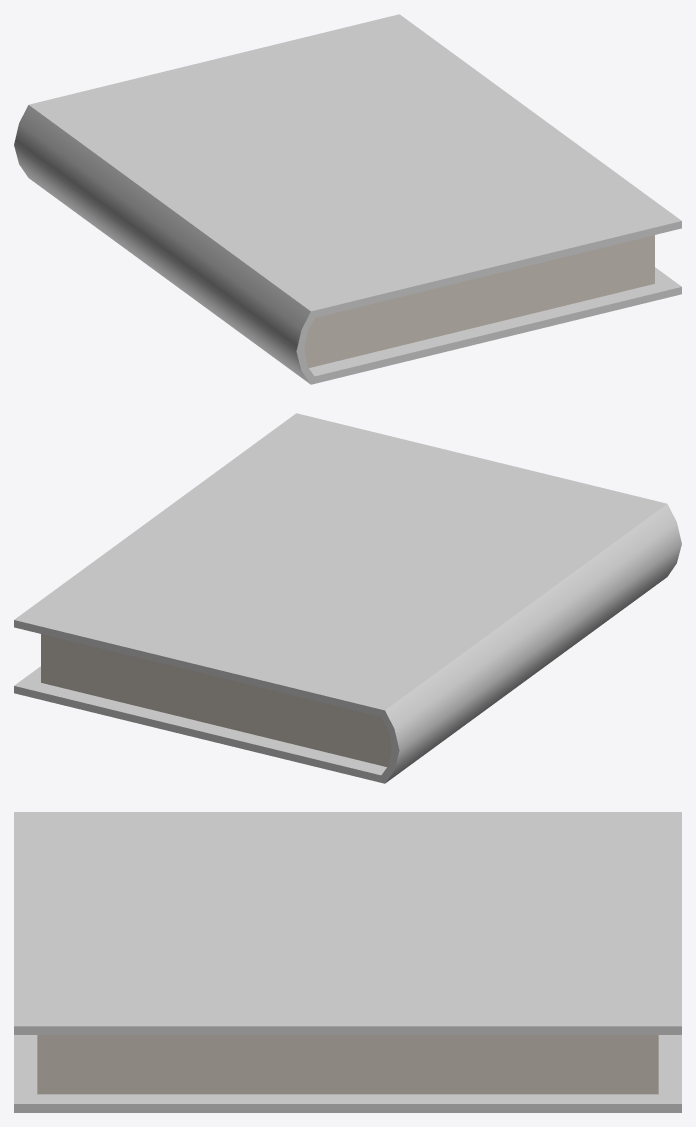
Rendered from book.fbx.
The picture shows the model from 3 angles, top to bottom: view 1: azimuth 30°, elevation 25°; view 2: azimuth 150°, elevation 25°; view 3: azimuth 270°, elevation 25°; orthographic projection. The views are drawn at different scales.
Visible parts, largest first — view 1: book; view 2: book; view 3: book.
Part boxes in pixels (<box>): book: <box>14,14,681,384</box>; book: <box>14,413,681,783</box>; book: <box>14,812,681,1112</box>.
Size of the model in its own units: 16.09 by 2.92 by 20.42.
2 materials, 1 textured.
